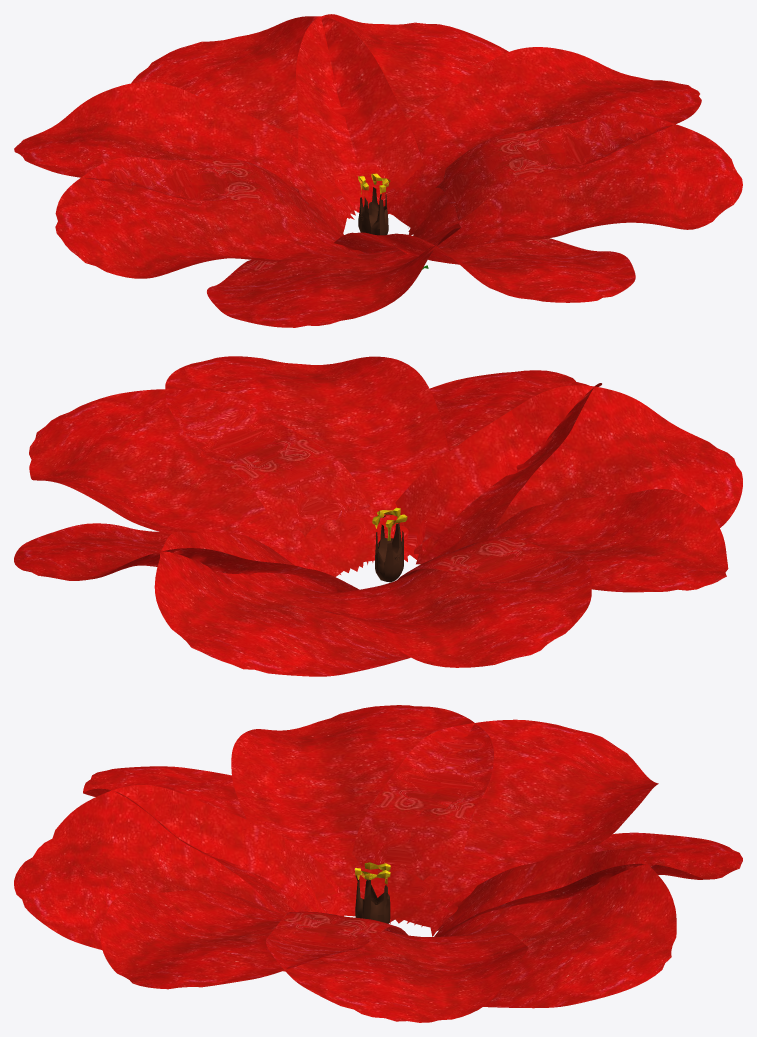
3 views of the same model, one above another, from view 1: azimuth 30°, elevation 25°; view 2: azimuth 150°, elevation 25°; view 3: azimuth 270°, elevation 25° (orthographic). The views are drawn at different scales.
Visible parts, largest first — view 1: 8269e998; view 2: 8269e998; view 3: 8269e998.
Boxes of the visible parts, x1,y1,x2,y2 form: 8269e998: (14,14,742,327); 8269e998: (14,356,742,676); 8269e998: (14,705,742,1022).
Bounding box in the file's own units: 0.1223 × 0.0207 × 0.1204.
4 materials, 3 textured.
